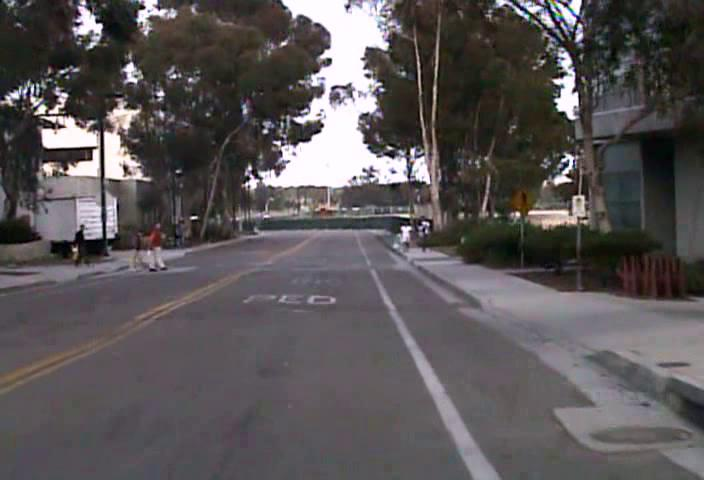pedestrianCrossing: (508, 185, 534, 215)
